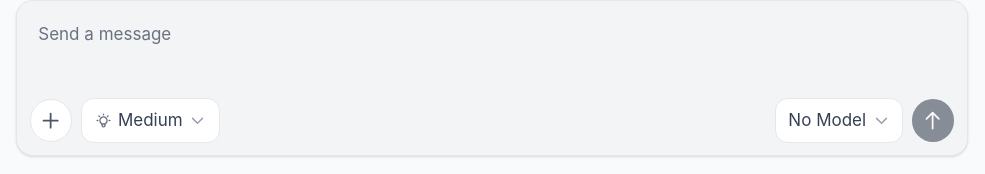
Test: MessageInput › shows a message when no models are available
The image size is (985, 174).
Click the button "No Model".
click(839, 120)  # box [775,98,903,142]
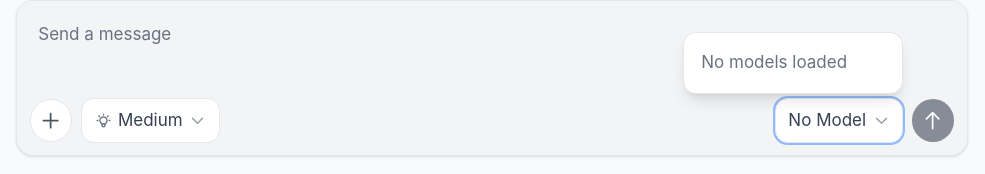
Check: the text "No models loaded" is shown, box [701,52,847,72]
